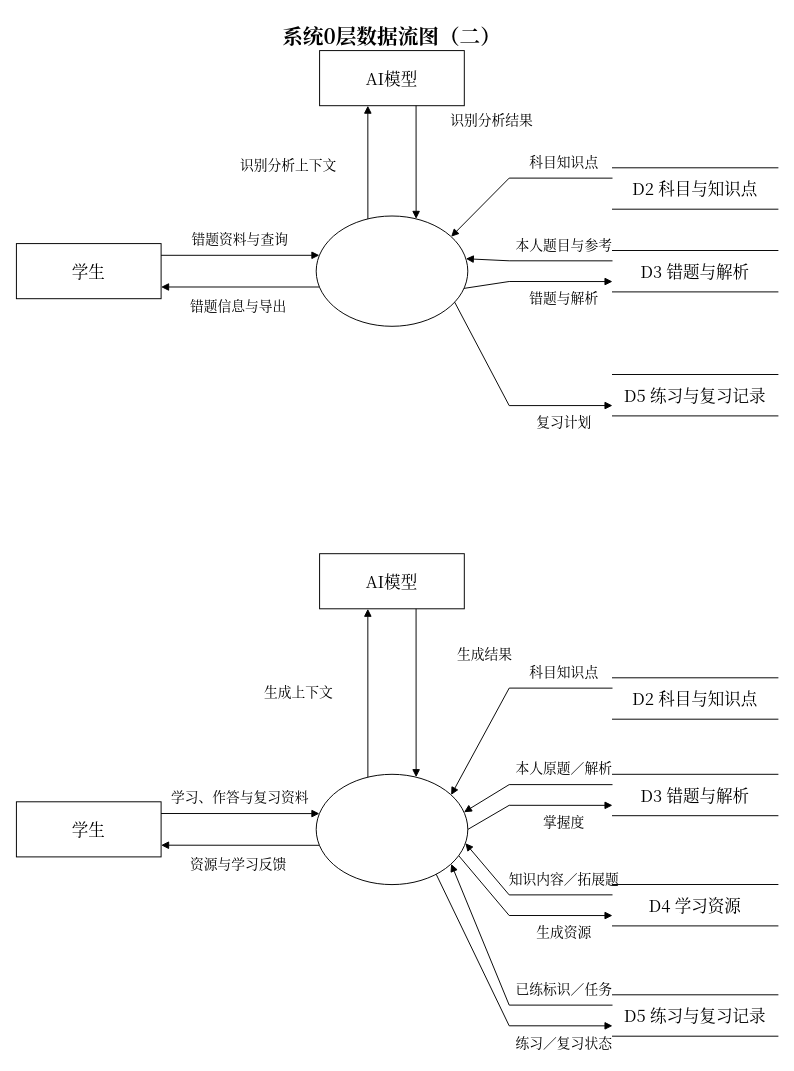
The diagram is 794 pixels wide and 1071 high, and some of its shapes have lost their labels. The centre of each missing label's shape, as x and y in pixels:
P3 错题录入与分析: point 391,270
P4 学习练习与复习: point 391,829
